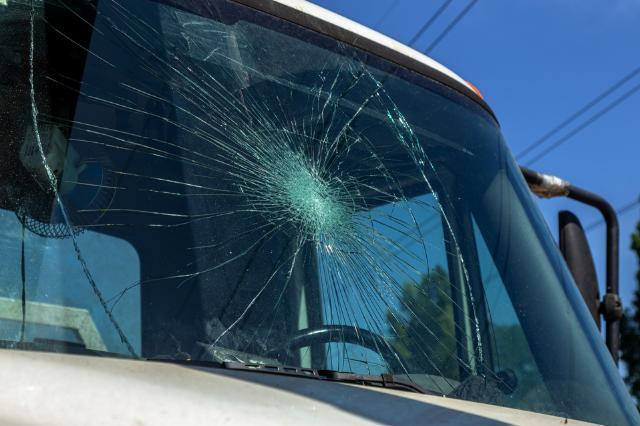Windshield: (14, 15, 565, 410)
